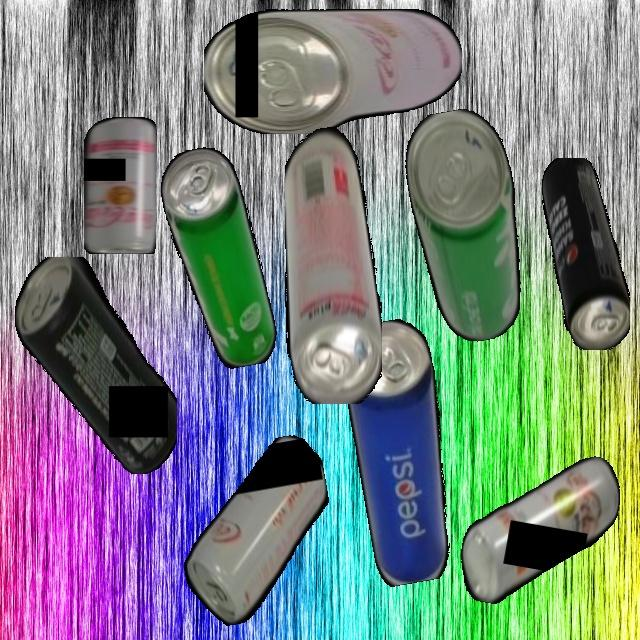debris: (335, 315, 470, 588), (165, 431, 347, 631), (14, 256, 177, 474), (397, 103, 539, 348), (204, 8, 462, 134), (454, 437, 626, 622), (155, 141, 281, 375), (284, 121, 382, 404), (541, 157, 630, 350), (83, 117, 156, 254)
